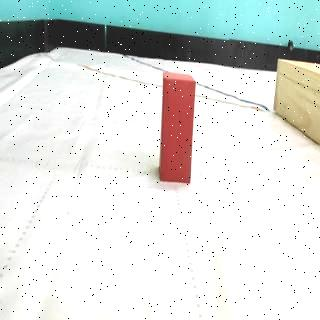redbox: (159, 69, 195, 183)
